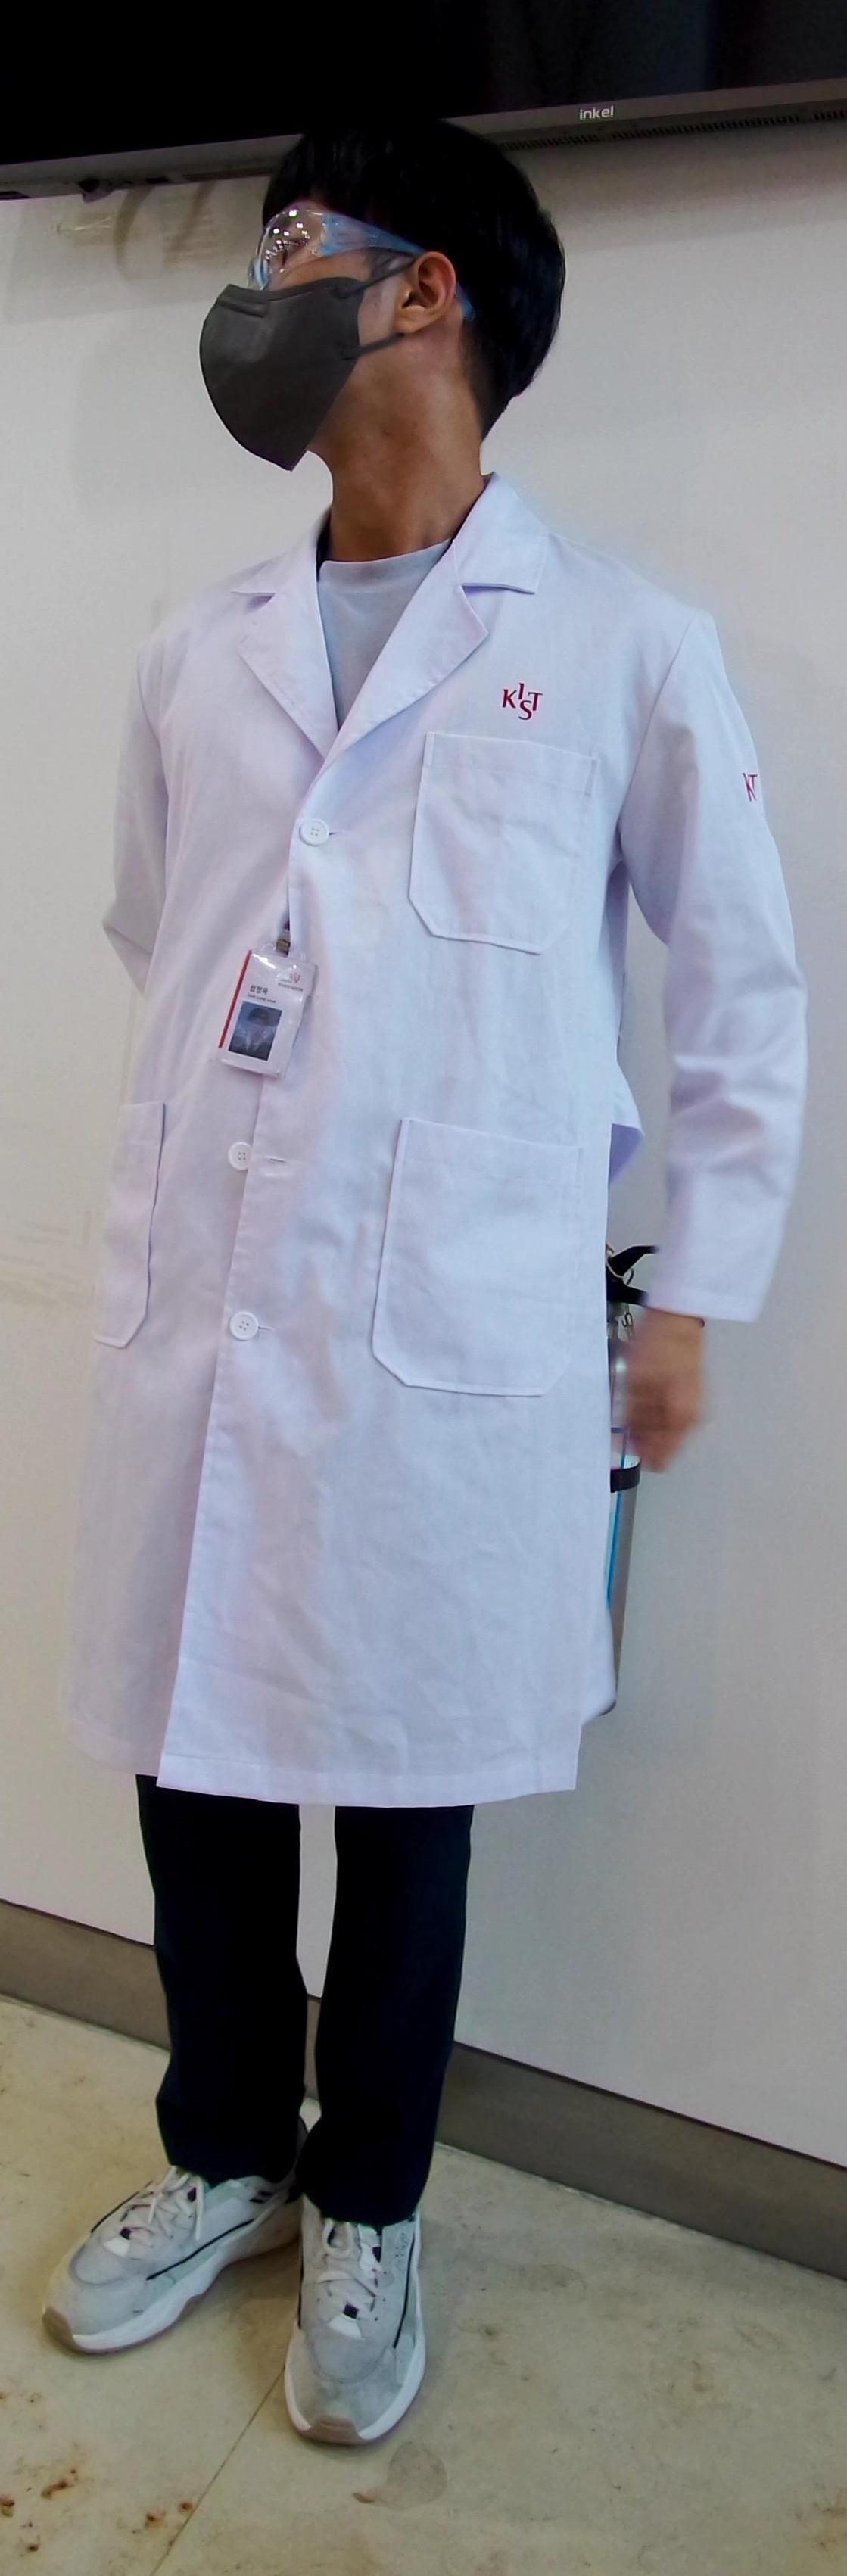lab_coat: (51, 570, 799, 1809)
